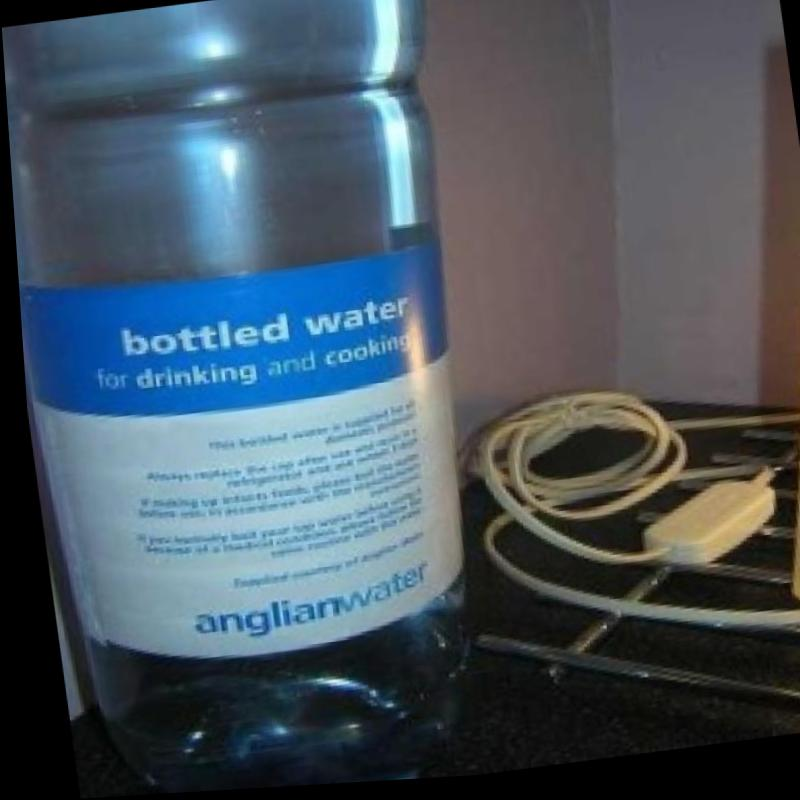botella: (0, 0, 522, 800)
